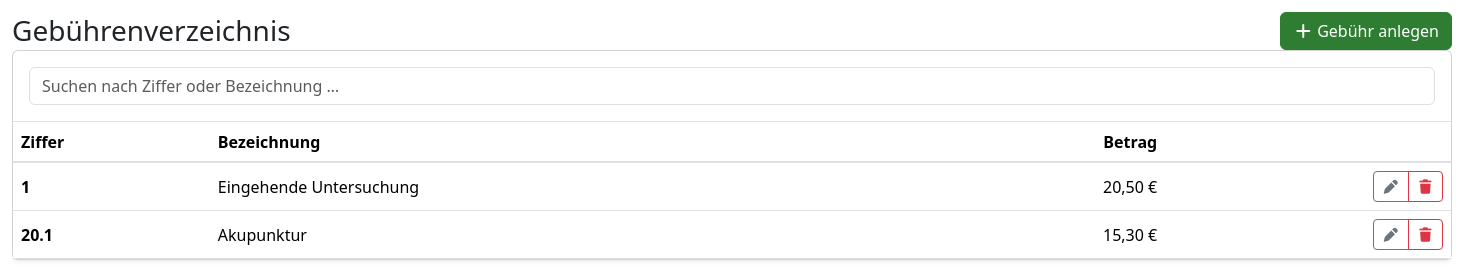
it: Gebührenverzeichnis › sollte die Gebühren nach Ziffer oder Bezeichnung durchsuchen
expect the row "20.1 Akupunktur 15,30 €" is shown: met, box [13,210,1451,258]
In the search field named "Gebühren durchsuchen": (732, 86) [29,67,1435,105], type "akup"
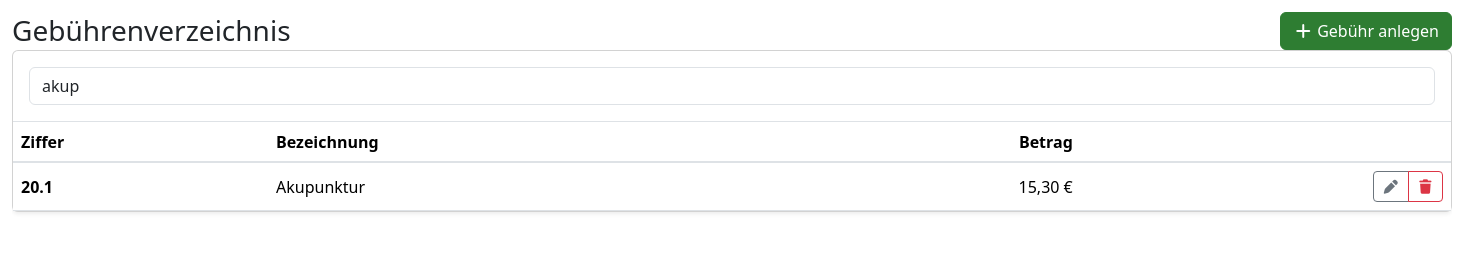
expect the row "20.1 Akupunktur 15,30 €" is shown: met, box [13,162,1451,210]
expect the cell "Eingehende Untersuchung" is gone: met
